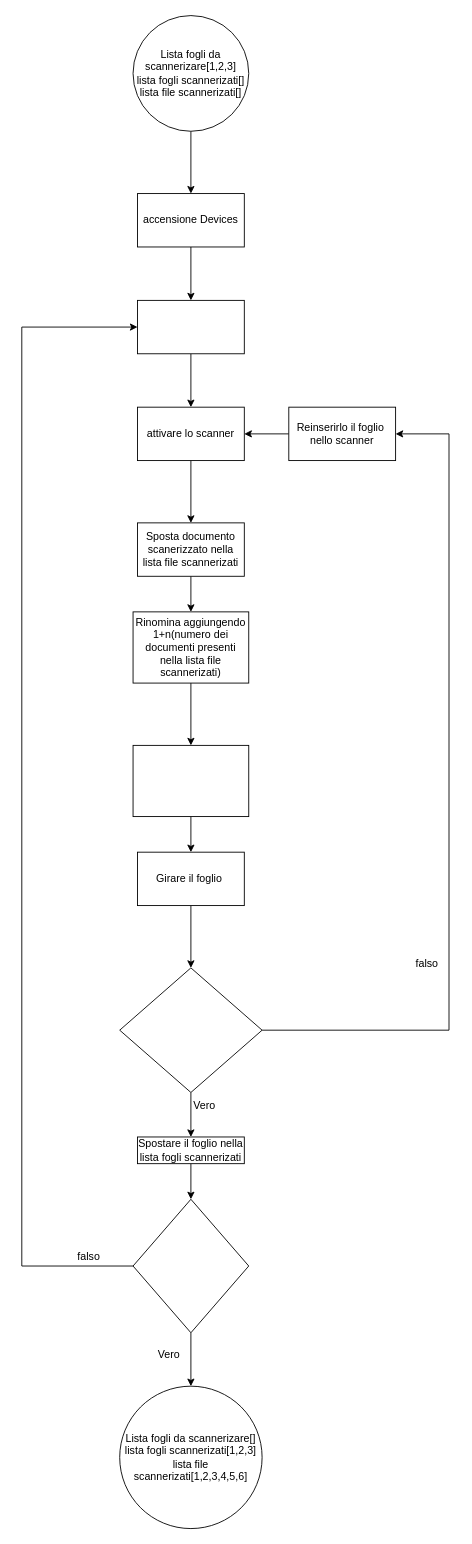
Some shapes in this 472 by 1544 pixel diagram are drawn without their labels. The shapes that lost their labels are listed below. From the top down, each one's box as (x1, y1, x2, y2) in pixels, then its label:
(137, 299, 244, 354): Inserire nuovo foglio in maniera ordinata
(132, 744, 249, 817): Prelevare il foglio
(119, 967, 262, 1092): la facciata del foglio e presente all'interno della lista file scannerizati
(132, 1198, 249, 1333): Non ci sono ancora fogli nella lista fogli da scannerizare?
